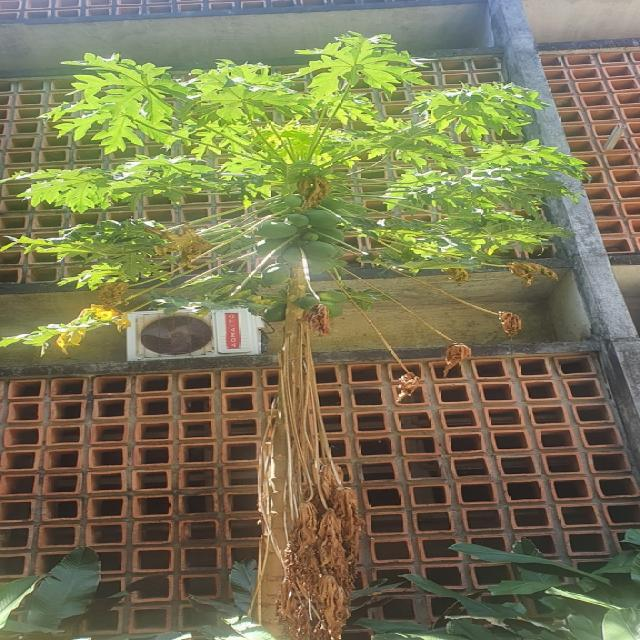Papaya-Tree: (0, 49, 614, 506)
